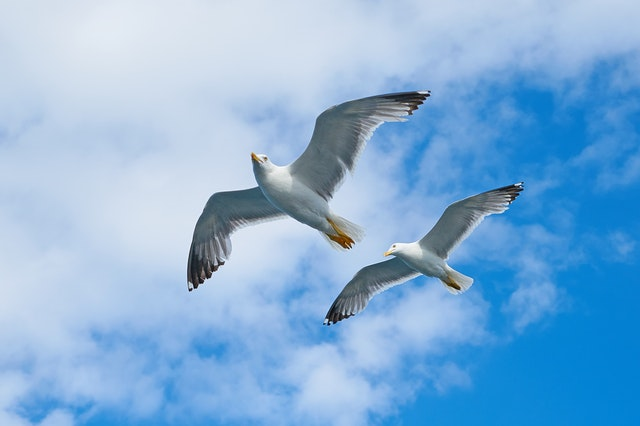bird: (186, 91, 430, 292), (321, 180, 523, 325)
